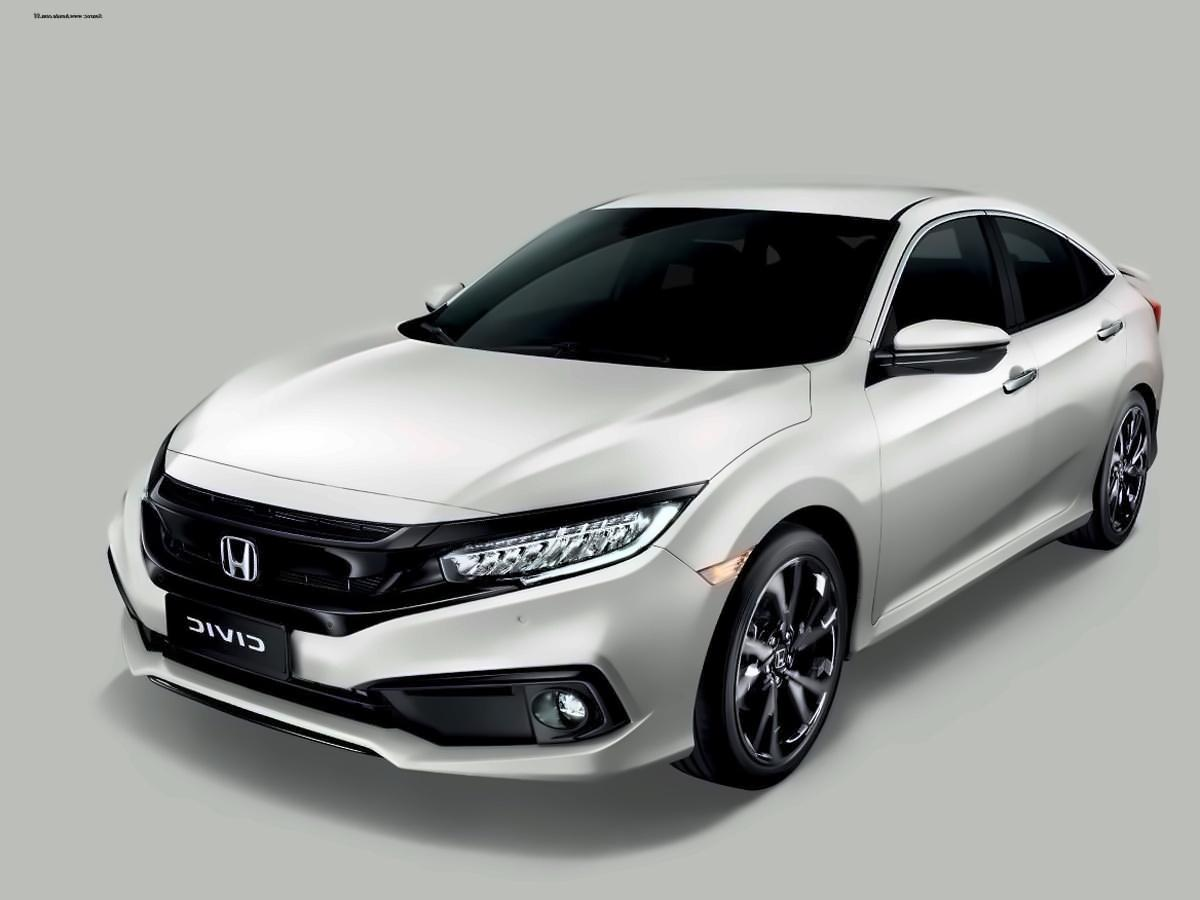Car hood: (153, 320, 819, 532)
Fender - -F-L-: (652, 352, 890, 662)
Fender - -R-L-: (1094, 256, 1169, 474)
Front bumper: (93, 489, 730, 782)
Headlight - -L-: (439, 474, 710, 594)
Passenger-s door - -F-L-: (851, 162, 1047, 668)
Passenger-s door - -R-L-: (987, 182, 1142, 584)
Side bumper - -L-: (855, 473, 1092, 710)
Side mirror - -L-: (865, 319, 1019, 387)
